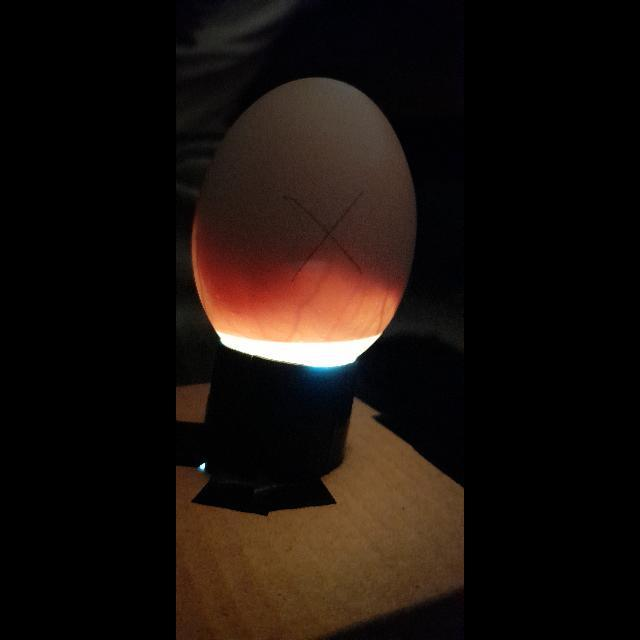Fertile: (194, 71, 408, 371)
